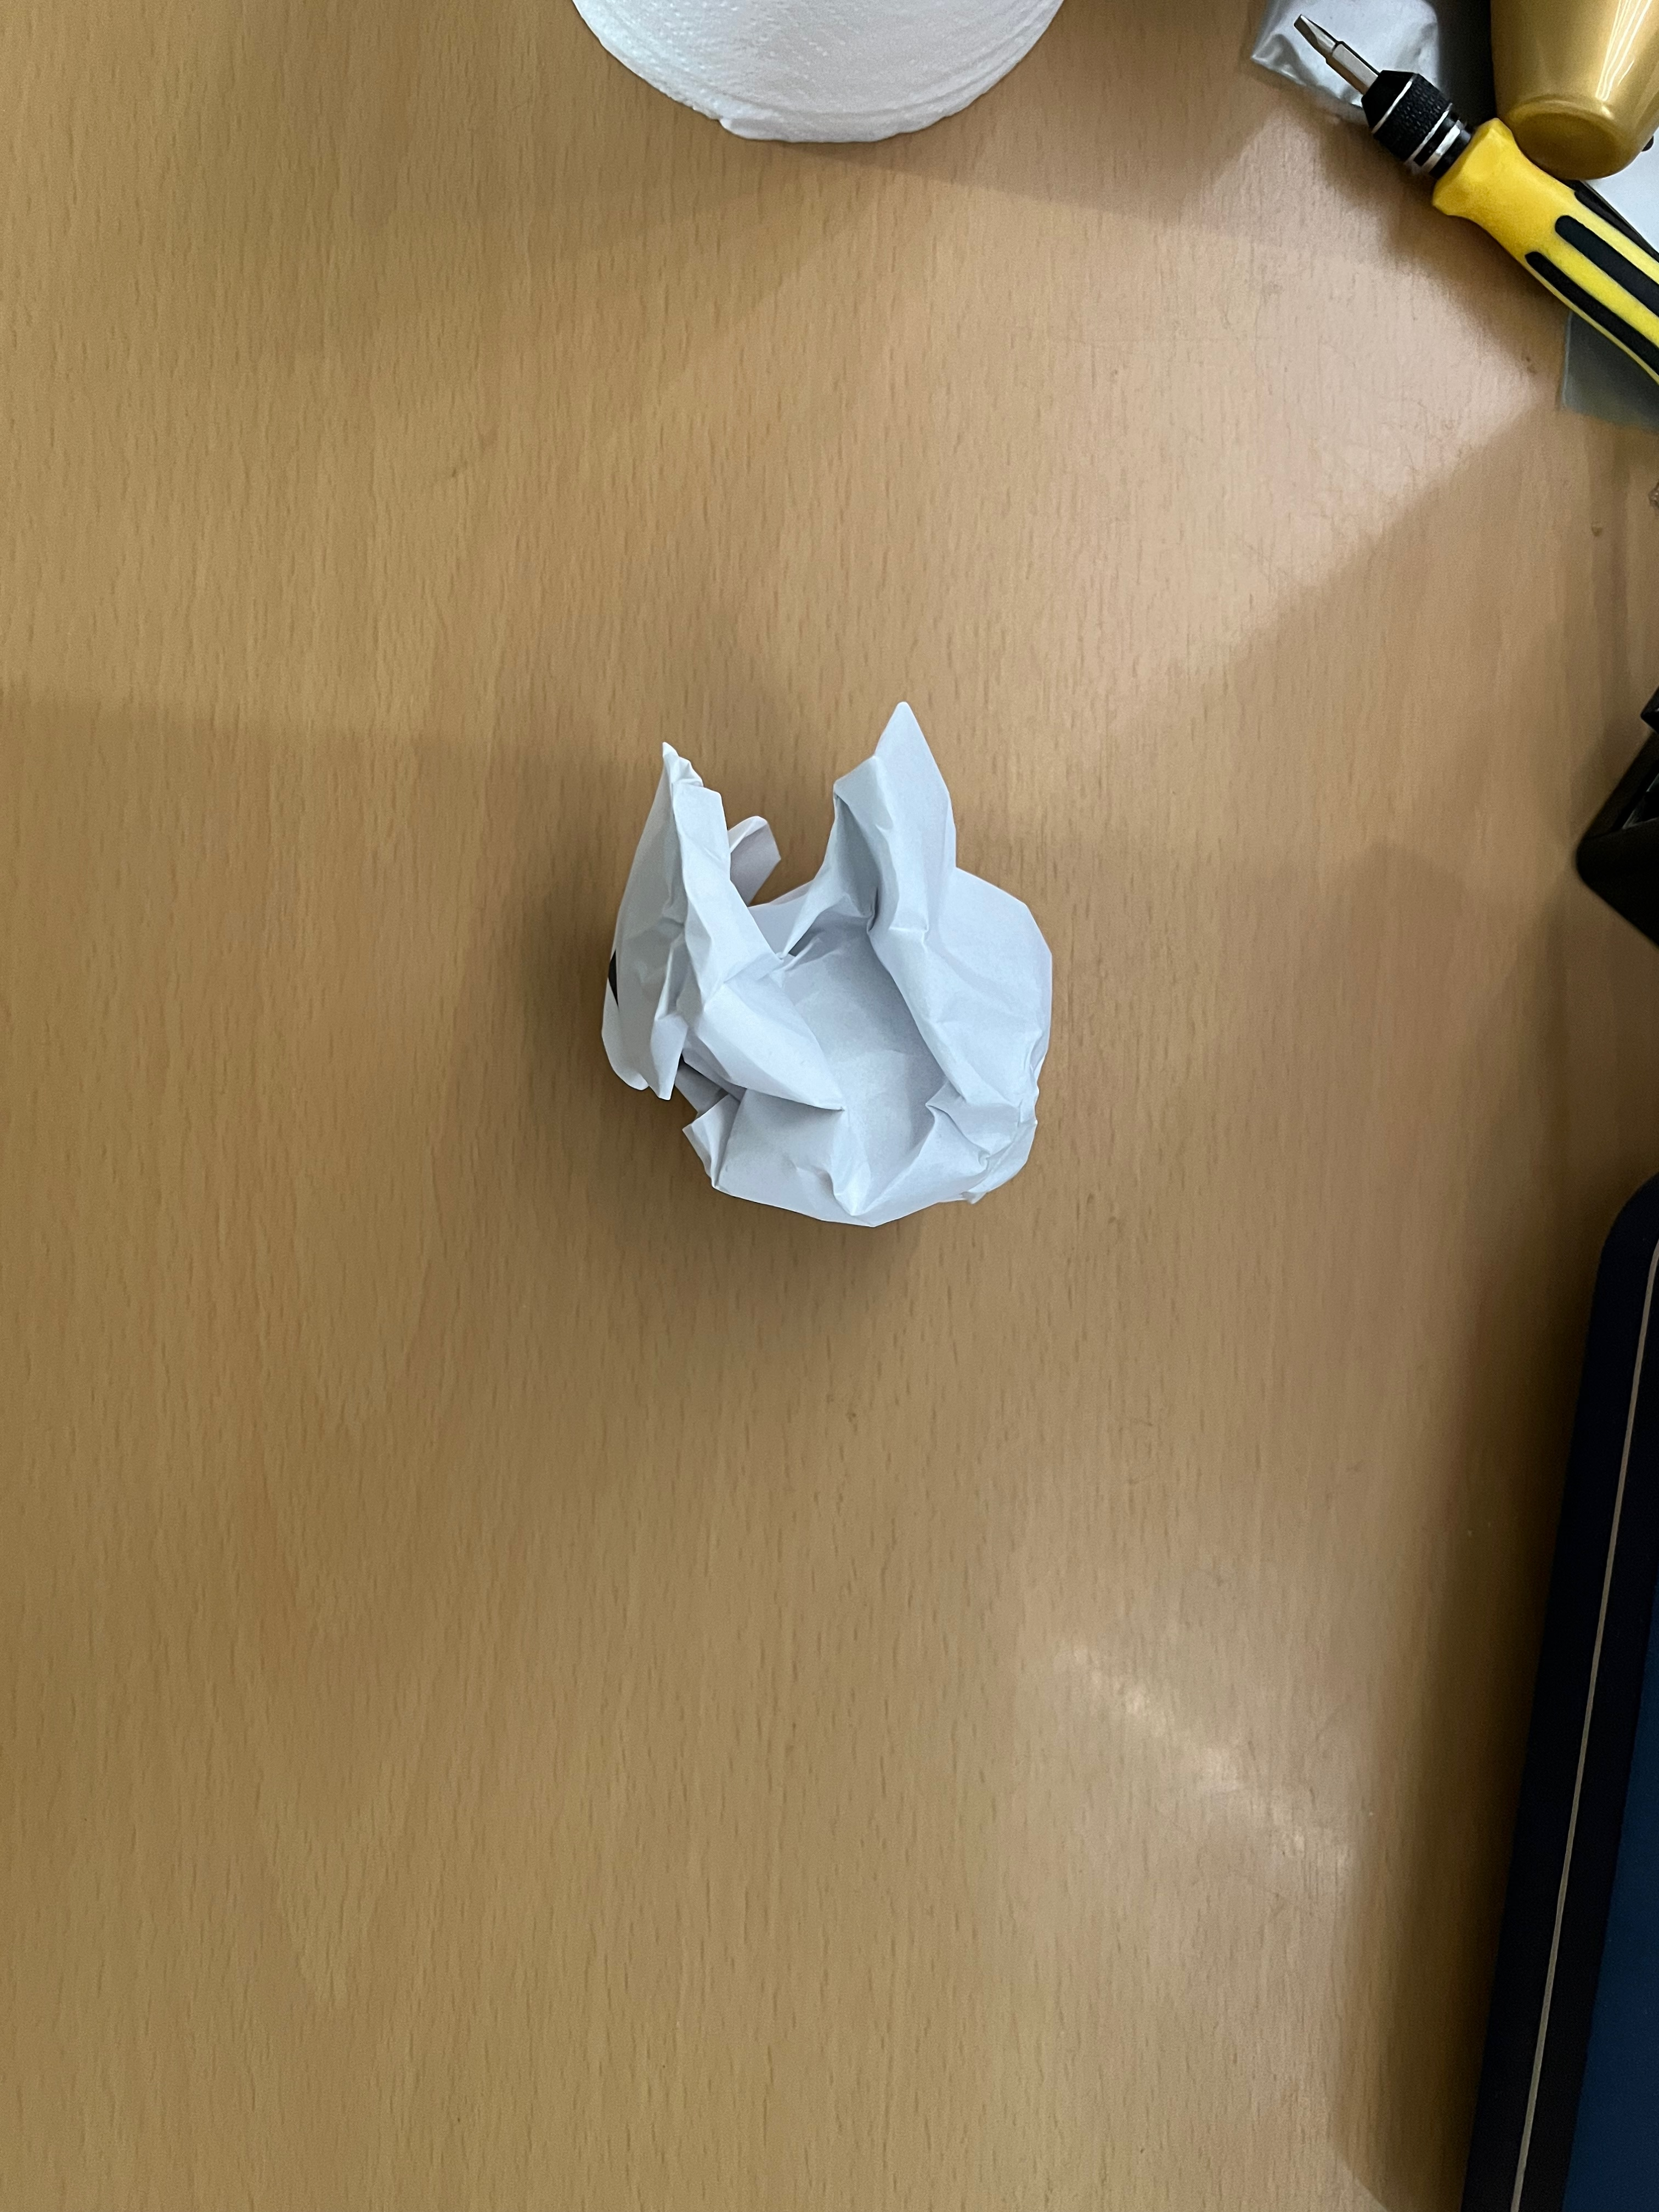trash paper: (598, 698, 1060, 1240)
